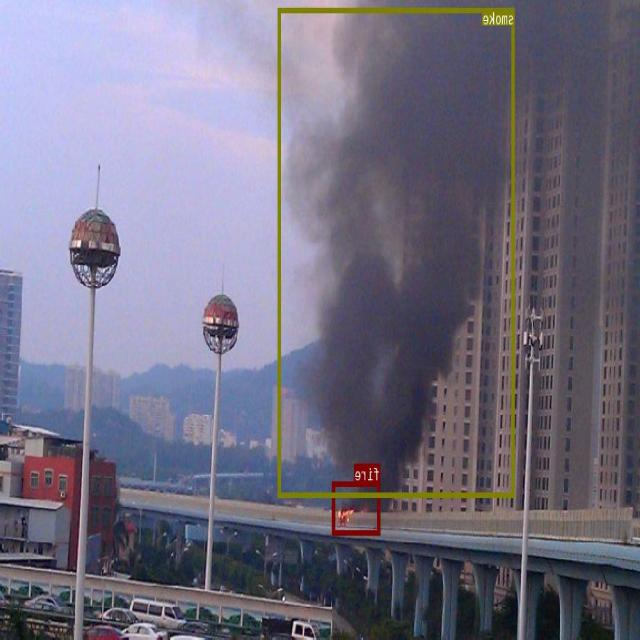fire: (333, 480, 381, 534)
smoke: (278, 7, 514, 496)
